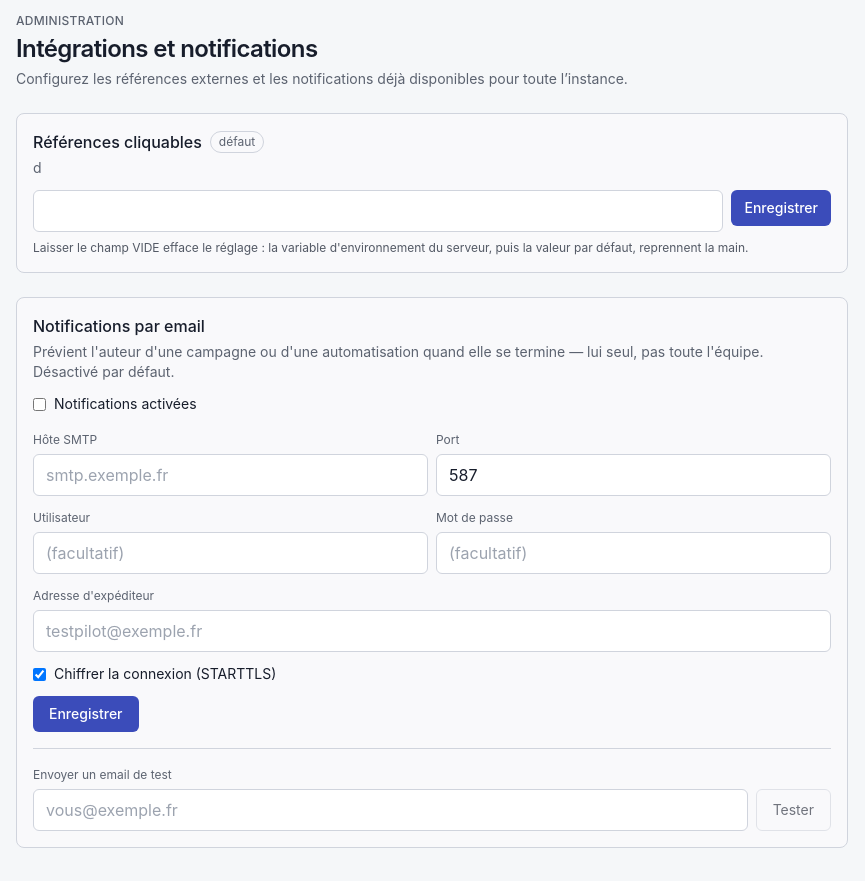
it: Settings — section Notifications par email › tester envoie un email de test et affiche le résultat
Type "moi@exemple.fr" into the field with placeholder "vous@exemple.fr". click: (390, 810)
box: [33, 789, 748, 831]
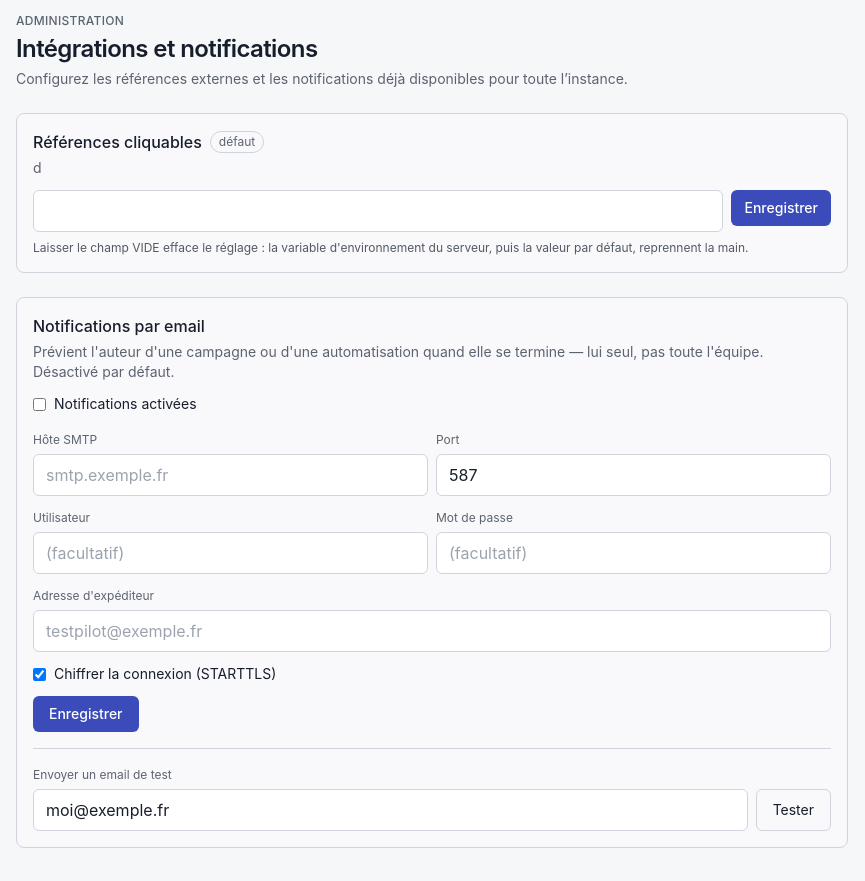
Click the button "Tester". click: (793, 810)
box: [756, 789, 831, 831]
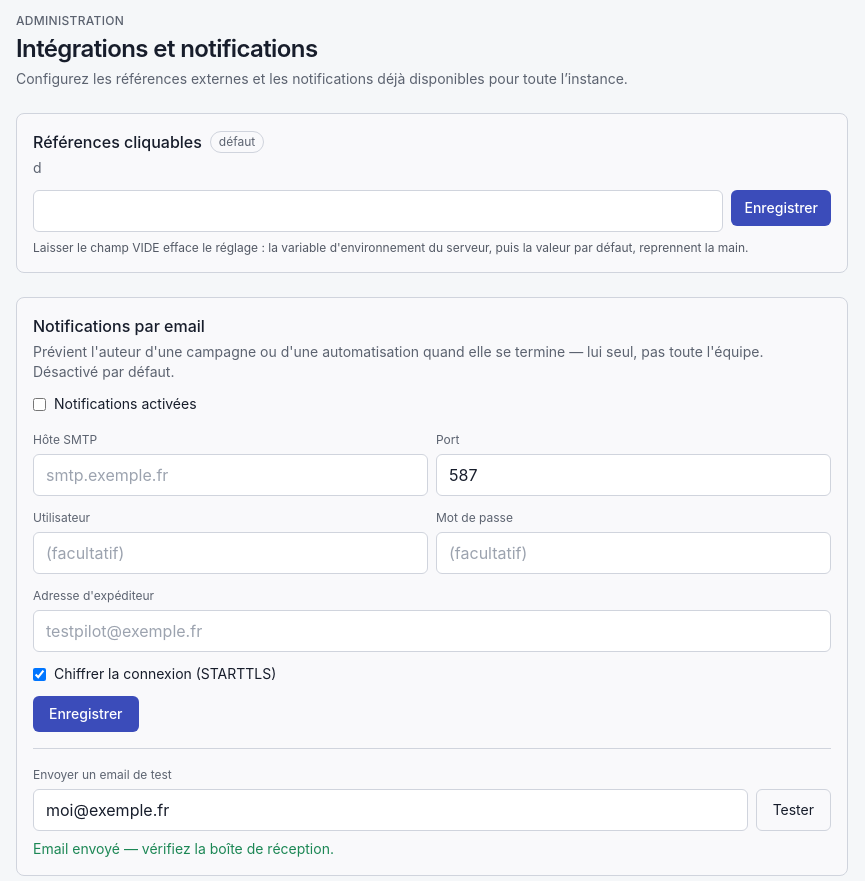
Now the text "Email envoyé" is shown, box [33, 840, 334, 857]
